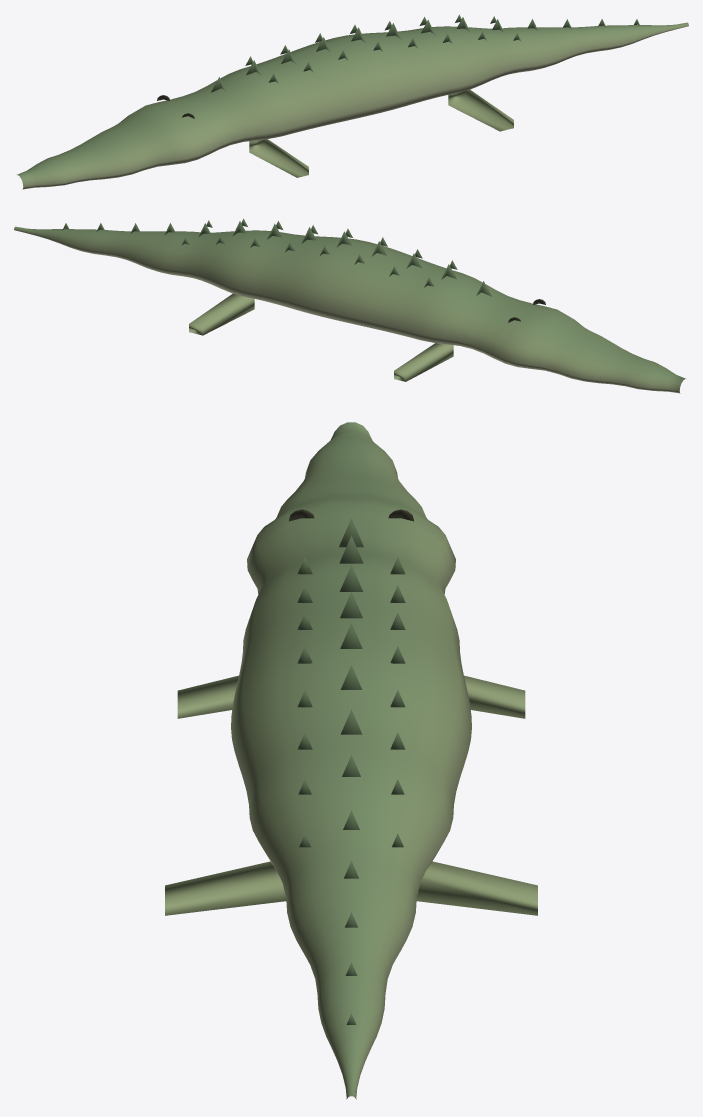
File: Crocodile.glb
The picture shows the model from 3 angles, top to bottom: view 1: azimuth 30°, elevation 25°; view 2: azimuth 150°, elevation 25°; view 3: azimuth 270°, elevation 25°; orthographic projection. The views are drawn at different scales.
Parts seen in each view (by area): view 1: Crocodile; view 2: Crocodile; view 3: Crocodile.
Boxes of the visible parts, <box> form: Crocodile: <box>17,14,688,189</box>; Crocodile: <box>14,218,685,393</box>; Crocodile: <box>165,422,537,1099</box>.
Bounding box in the file's own units: 1 × 0.1334 × 0.2855.
